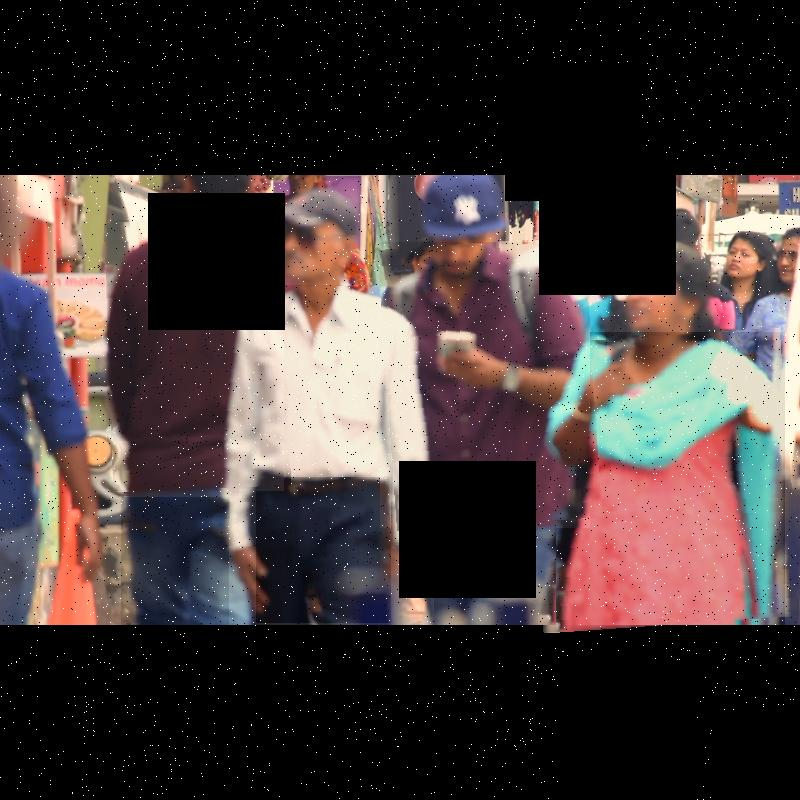Churidaar: (531, 333, 785, 632)
Jeans: (121, 497, 229, 625), (434, 527, 556, 625)
Pant: (256, 478, 391, 623)
shirt: (380, 242, 590, 528), (222, 286, 428, 546), (107, 221, 284, 491)
